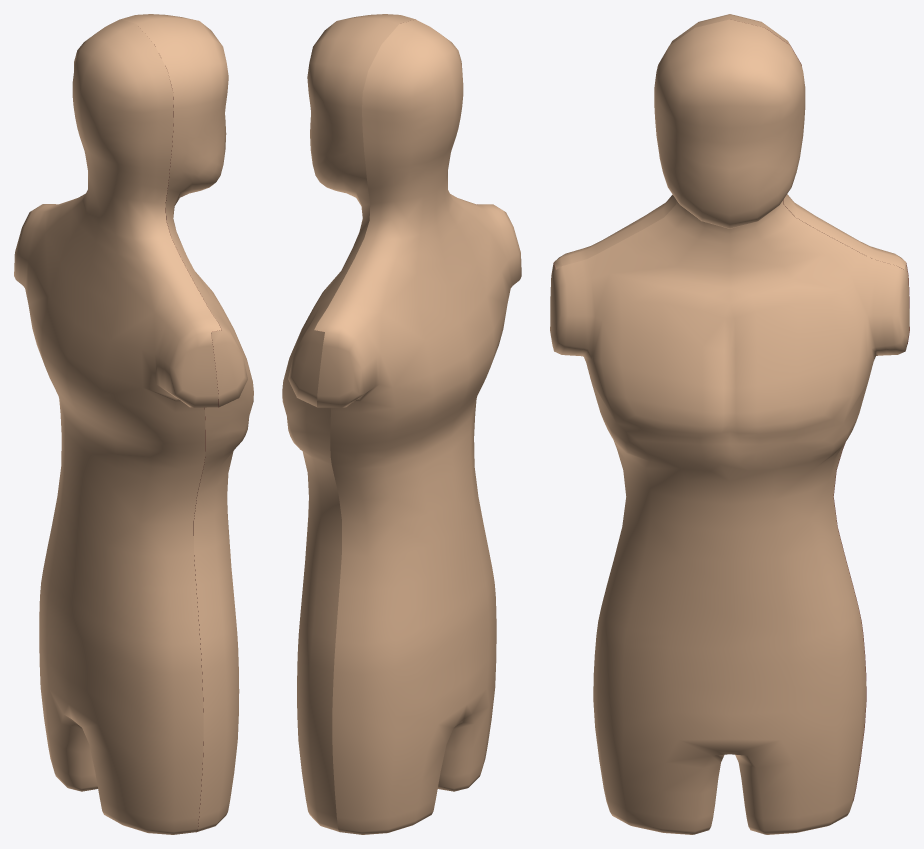
The model's file is organFixSm2.fbx.
The picture shows the model from 3 angles, left to right: view 1: azimuth 30°, elevation 25°; view 2: azimuth 150°, elevation 25°; view 3: azimuth 270°, elevation 25°; orthographic projection. The views are drawn at different scales.
Visible parts, largest first — view 1: BodyBack, BodyFront; view 2: BodyBack, BodyFront; view 3: BodyFront, BodyBack.
Part boxes in pixels (x1,y1,x2,y2): BodyBack: (14,19,221,834); BodyFront: (121,14,253,832); BodyBack: (314,19,521,834); BodyFront: (282,14,477,831); BodyFront: (550,19,909,834); BodyBack: (554,14,909,800).
Size of the model in its own units: 215 by 983 by 406.
